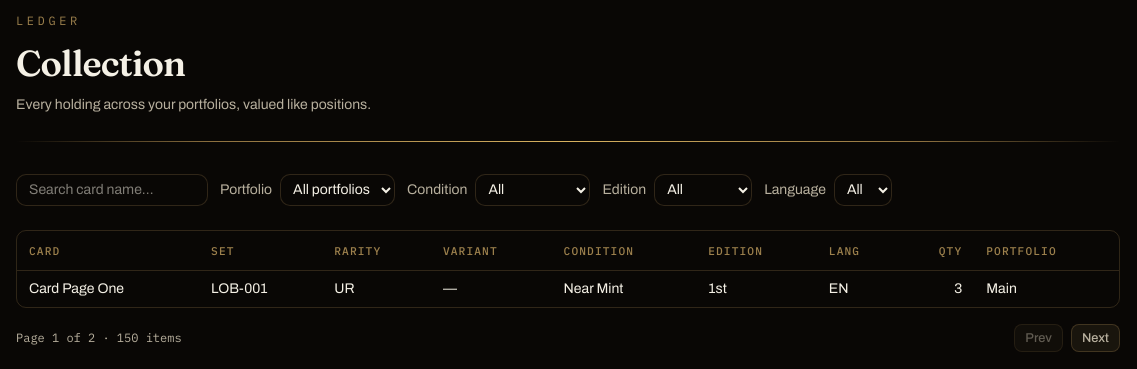
it: CollectionPage › pages forward, refetching with the next page and flipping boundary states
The width and height of the screenshot is (1137, 369).
Expected: the text "Card Page One" is shown, [17, 271, 199, 307]
Expected: the text "Page 1 of 2 · 150 items" is shown, [16, 330, 182, 346]
What coordinates should you click on to do the following:
click the button "Next"
I would click on:
 (1095, 338)
Its box is [1071, 324, 1120, 352].
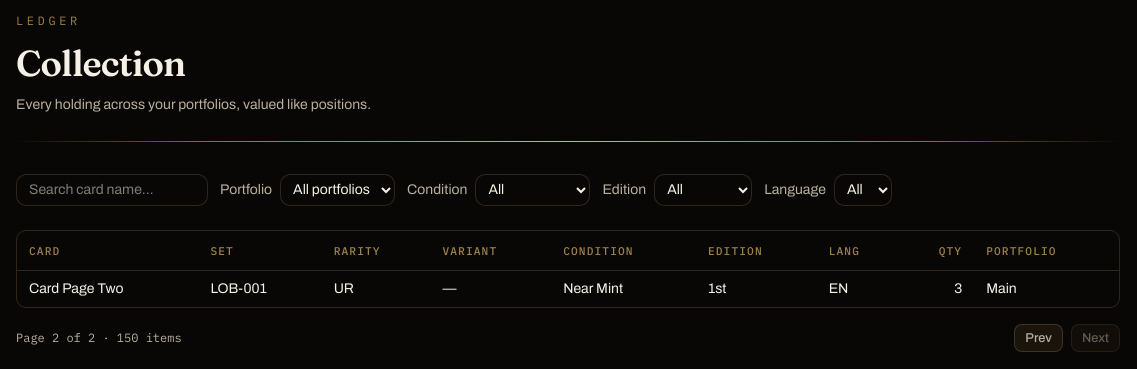
Expected: the text "Card Page Two" is shown, [17, 271, 198, 307]
Expected: the text "Page 2 of 2 · 150 items" is shown, [16, 330, 182, 346]
Expected: the button "Next" is disabled, [1071, 324, 1120, 352]
